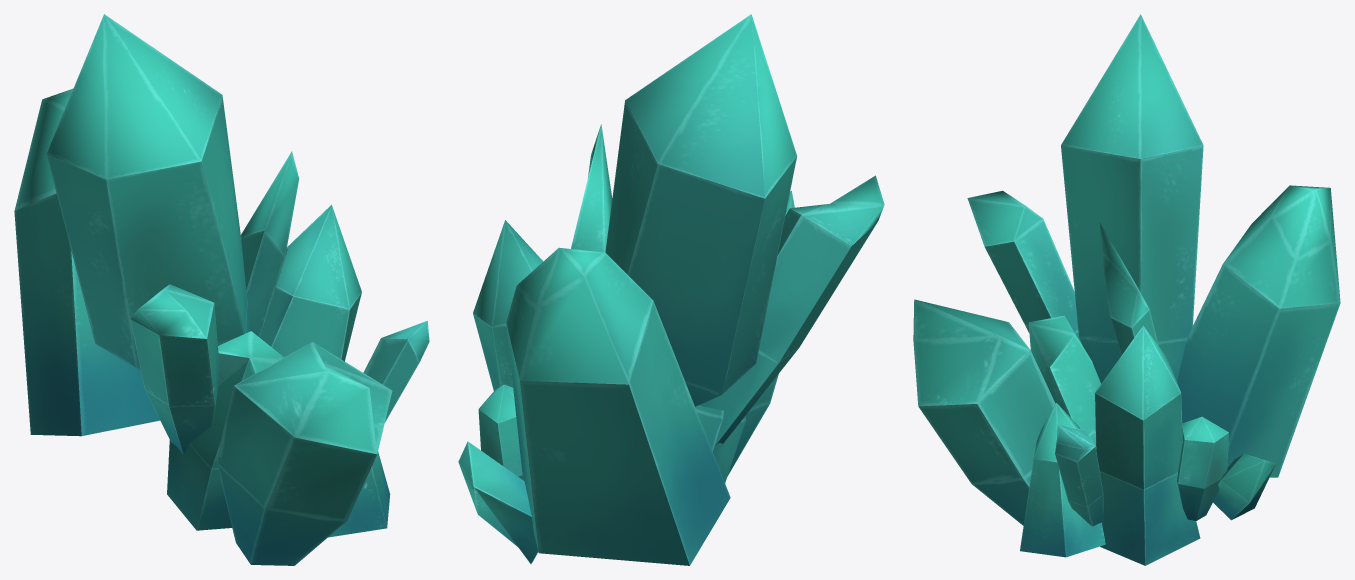
The model's file is HighTierCrystalModel.fbx.
3 renders of one model, left to right at view 1: azimuth 30°, elevation 25°; view 2: azimuth 150°, elevation 25°; view 3: azimuth 270°, elevation 25°, orthographic. The views are drawn at different scales.
Visible parts, largest first — view 1: pCylinder12; view 2: pCylinder12; view 3: pCylinder12.
Boxes of the visible parts, bbox=[...] form: pCylinder12: bbox=[14, 14, 429, 565]; pCylinder12: bbox=[458, 14, 884, 565]; pCylinder12: bbox=[913, 14, 1340, 565].
Bounding box in the file's own units: 3.9 × 6.31 × 5.17.
1 material, 1 textured.
